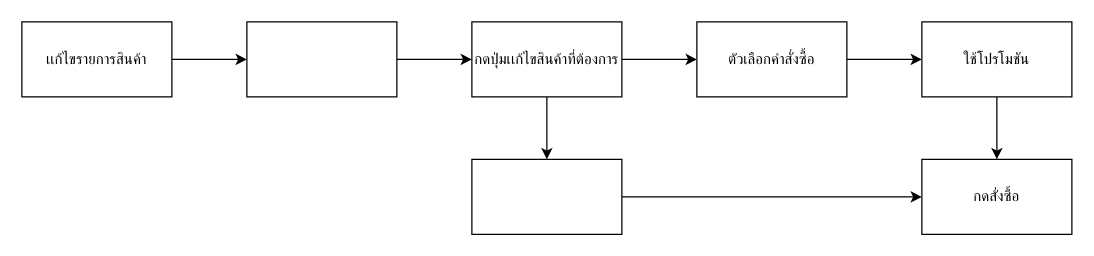
Image size: 1094x256. Some labels were removed from this diagram. Each missing label, with the centre of its shape:
"เข้าไปที่ตระกร้าสินค้า" goes at (x=321, y=59).
"เพิ่มลดจำนวนสินค้า" goes at (x=546, y=196).
